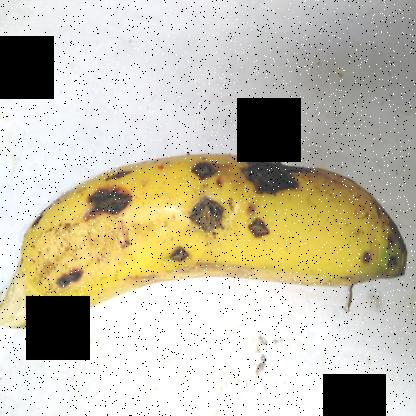rotten: (79, 166, 136, 245), (238, 140, 308, 204), (186, 196, 236, 246), (148, 240, 204, 284), (42, 258, 100, 300), (240, 210, 284, 252), (184, 152, 218, 194)
